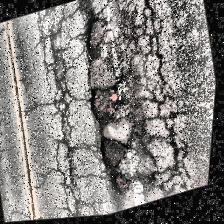pothole: (84, 75, 132, 133), (95, 132, 137, 174), (79, 12, 115, 58), (109, 170, 138, 200)
